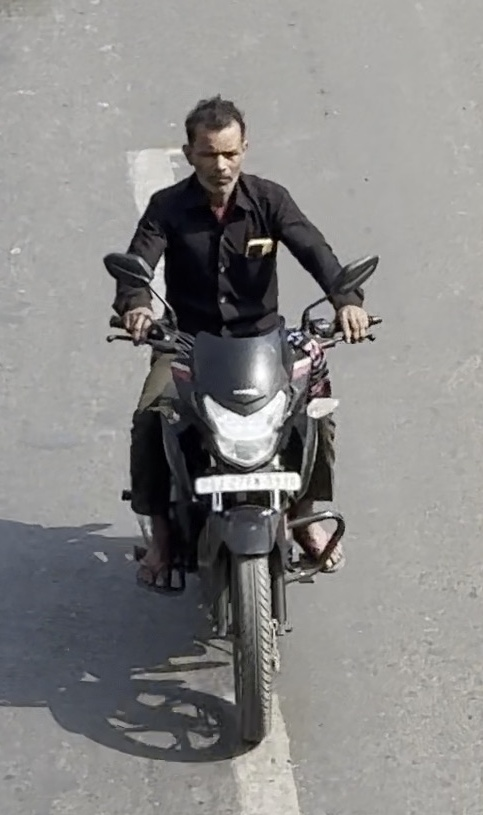BikeWithRider: (92, 88, 393, 755)
NoHelmet: (169, 91, 262, 200)
